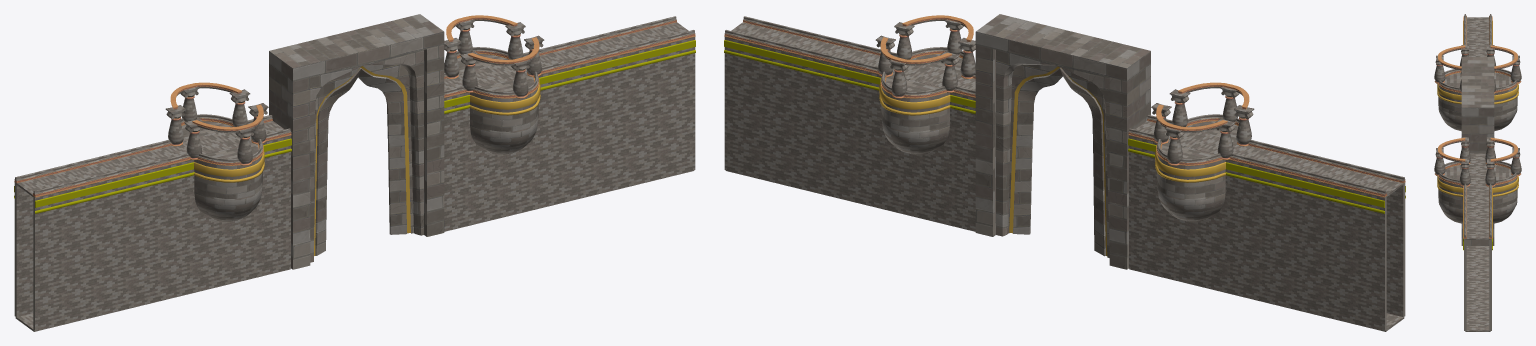
Rendered from south_wall_simple_clean_1.fbx.
The picture shows the model from 3 angles, left to right: view 1: azimuth 30°, elevation 25°; view 2: azimuth 150°, elevation 25°; view 3: azimuth 270°, elevation 25°; orthographic projection. The views are drawn at different scales.
Parts seen in each view (by area): view 1: gate_frame_3, polySurface933polySurface920polySurface914, wall_pill_mid_flat:polySurface933polySurface920polySurface91, wall_pill_mid_flat:polySurface939, polySurface1058, SM_Bld_Castle_Wall_181, SM_Bld_Castle_Wall_180, SM_Bld_Castle_Wall_178, SM_Bld_Castle_Wall_116, SM_Bld_Castle_Wall_149, SM_Bld_Castle_Wall_119, SM_Bld_Castle_Wall_111 (+61 smaller); view 2: gate_frame_3, polySurface933polySurface920polySurface913 (×2), polySurface939 (×2), SM_Bld_Castle_Wall_177, SM_Bld_Castle_Wall_182, SM_Bld_Castle_Wall_179, SM_Bld_Castle_Wall_120, SM_Bld_Castle_Wall_145, SM_Bld_Castle_Wall_118, SM_Bld_Castle_Wall_102, SM_Bld_Castle_Wall_110, SM_Bld_Castle_Wall_107 (+59 smaller); view 3: gate_frame_3, polySurface933polySurface920polySurface913 (×2), polySurface939 (×2), pillar_classic_bottom5 (×2), wall_pill_mid_flat:polySurface933polySurface920polySurface91, floor_half_round4 (×2), polySurface933polySurface920polySurface914, wall_pill_mid_flat:polySurface939, polySurface1058, pillar_classic_bottom4 (×2), SM_Bld_Castle_Floor_Stone_77, SM_Bld_Castle_Floor_Stone_76 (+35 smaller).
Boxes of the visible parts, x1,y1,x2,y2 form: gate_frame_3: [269, 14, 444, 269]; polySurface933polySurface920polySurface914: [194, 155, 262, 198]; wall_pill_mid_flat:polySurface933polySurface920polySurface91: [470, 88, 538, 131]; wall_pill_mid_flat:polySurface939: [470, 118, 538, 154]; polySurface1058: [194, 185, 262, 221]; SM_Bld_Castle_Wall_181: [33, 289, 66, 330]; SM_Bld_Castle_Wall_180: [33, 256, 66, 297]; SM_Bld_Castle_Wall_178: [33, 222, 66, 263]; SM_Bld_Castle_Wall_116: [663, 136, 695, 177]; SM_Bld_Castle_Wall_149: [163, 258, 195, 299]; SM_Bld_Castle_Wall_119: [663, 69, 695, 110]; SM_Bld_Castle_Wall_111: [631, 77, 663, 118]; gate_frame_3: [975, 14, 1150, 269]; polySurface933polySurface920polySurface913 (×2): [881, 88, 1225, 198]; polySurface939 (×2): [881, 118, 1225, 221]; SM_Bld_Castle_Wall_177: [1353, 289, 1386, 330]; SM_Bld_Castle_Wall_182: [1353, 256, 1386, 297]; SM_Bld_Castle_Wall_179: [1353, 222, 1386, 263]; SM_Bld_Castle_Wall_120: [724, 136, 756, 177]; SM_Bld_Castle_Wall_145: [1224, 258, 1256, 299]; SM_Bld_Castle_Wall_118: [724, 69, 756, 110]; SM_Bld_Castle_Wall_102: [788, 85, 820, 126]; SM_Bld_Castle_Wall_110: [756, 77, 788, 118]; SM_Bld_Castle_Wall_107: [756, 110, 788, 151]; gate_frame_3: [1461, 57, 1494, 245]; polySurface933polySurface920polySurface913 (×2): [1492, 85, 1517, 208]; polySurface939 (×2): [1493, 105, 1517, 223]; pillar_classic_bottom5 (×2): [1510, 55, 1521, 175]; wall_pill_mid_flat:polySurface933polySurface920polySurface91: [1438, 177, 1463, 208]; floor_half_round4 (×2): [1444, 72, 1511, 180]; polySurface933polySurface920polySurface914: [1438, 85, 1461, 115]; wall_pill_mid_flat:polySurface939: [1438, 199, 1462, 223]; polySurface1058: [1438, 105, 1461, 131]; pillar_classic_bottom4 (×2): [1485, 45, 1495, 163]; SM_Bld_Castle_Floor_Stone_77: [1465, 227, 1490, 239]; SM_Bld_Castle_Floor_Stone_76: [1465, 320, 1490, 331].
Size of the model in its own units: 103 by 30.27 by 17.17.
